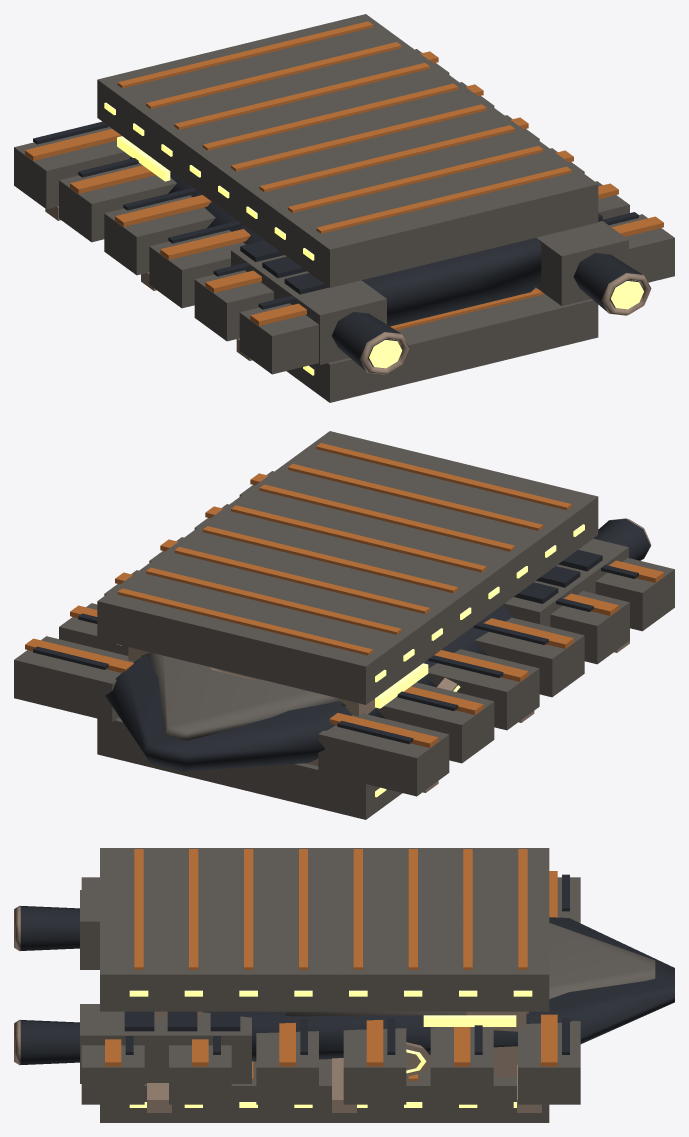
File: compact_high_gravity--colony_ship--lod1.glb
3 renders of one model, top to bottom at view 1: azimuth 30°, elevation 25°; view 2: azimuth 150°, elevation 25°; view 3: azimuth 270°, elevation 25°, orthographic. The views are drawn at different scales.
Parts seen in each view (by area): view 1: ark_deck_continent_86, ark_deck_continent_111, load_bearing_wedge_1, armored_drive_block_4, armored_drive_block_25, habitat_block_62, habitat_block_47, habitat_block_50, habitat_block_53, habitat_block_56, habitat_block_59, habitat_block_80 (+27 smaller); view 2: ark_deck_continent_86, load_bearing_wedge_1, stepped_main_plate_2, ark_deck_continent_111, habitat_block_47, habitat_block_65, habitat_block_50, habitat_block_53, habitat_block_56, habitat_block_59, habitat_block_62, armored_drive_block_4 (+19 smaller); view 3: ark_deck_continent_86, load_bearing_wedge_1, ark_deck_continent_111, stepped_main_plate_2, armored_drive_block_25, habitat_block_65, habitat_block_68, habitat_block_71, habitat_block_74, habitat_block_80, habitat_block_77, engine_shroud_5 (+26 smaller).
Part boxes in pixels (x1,y1,x2,y2): ark_deck_continent_86: (97,14,598,287); ark_deck_continent_111: (286,294,598,402); load_bearing_wedge_1: (129,157,541,326); armored_drive_block_4: (231,248,386,364); armored_drive_block_25: (536,221,628,305); habitat_block_62: (239,303,318,374); habitat_block_47: (14,126,130,209); habitat_block_50: (59,163,176,242); habitat_block_53: (104,195,215,275); habitat_block_56: (149,230,245,308); habitat_block_59: (194,270,273,341); habitat_block_80: (609,214,674,282); ark_deck_continent_86: (97,431,598,704); load_bearing_wedge_1: (105,605,513,771); stepped_main_plate_2: (141,652,345,740); ark_deck_continent_111: (97,718,402,819); habitat_block_47: (318,713,449,796); habitat_block_65: (14,636,134,722); habitat_block_50: (376,682,494,763); habitat_block_53: (426,649,539,730); habitat_block_56: (475,617,584,697); habitat_block_59: (550,591,629,664); habitat_block_62: (595,558,674,631); armored_drive_block_4: (503,538,628,626); ark_deck_continent_86: (100,848,549,1011); load_bearing_wedge_1: (202,917,674,1061); ark_deck_continent_111: (100,1055,549,1122); stepped_main_plate_2: (285,923,655,1016); armored_drive_block_25: (80,1004,251,1083); habitat_block_65: (518,1021,580,1104); habitat_block_68: (430,1027,493,1104); habitat_block_71: (343,1028,406,1104); habitat_block_74: (256,1031,318,1104); habitat_block_80: (81,1045,144,1104); habitat_block_77: (169,1045,231,1104); engine_shroud_5: (20,906,79,950).
Size of the model in its own units: 6500 by 2400 by 9500.
